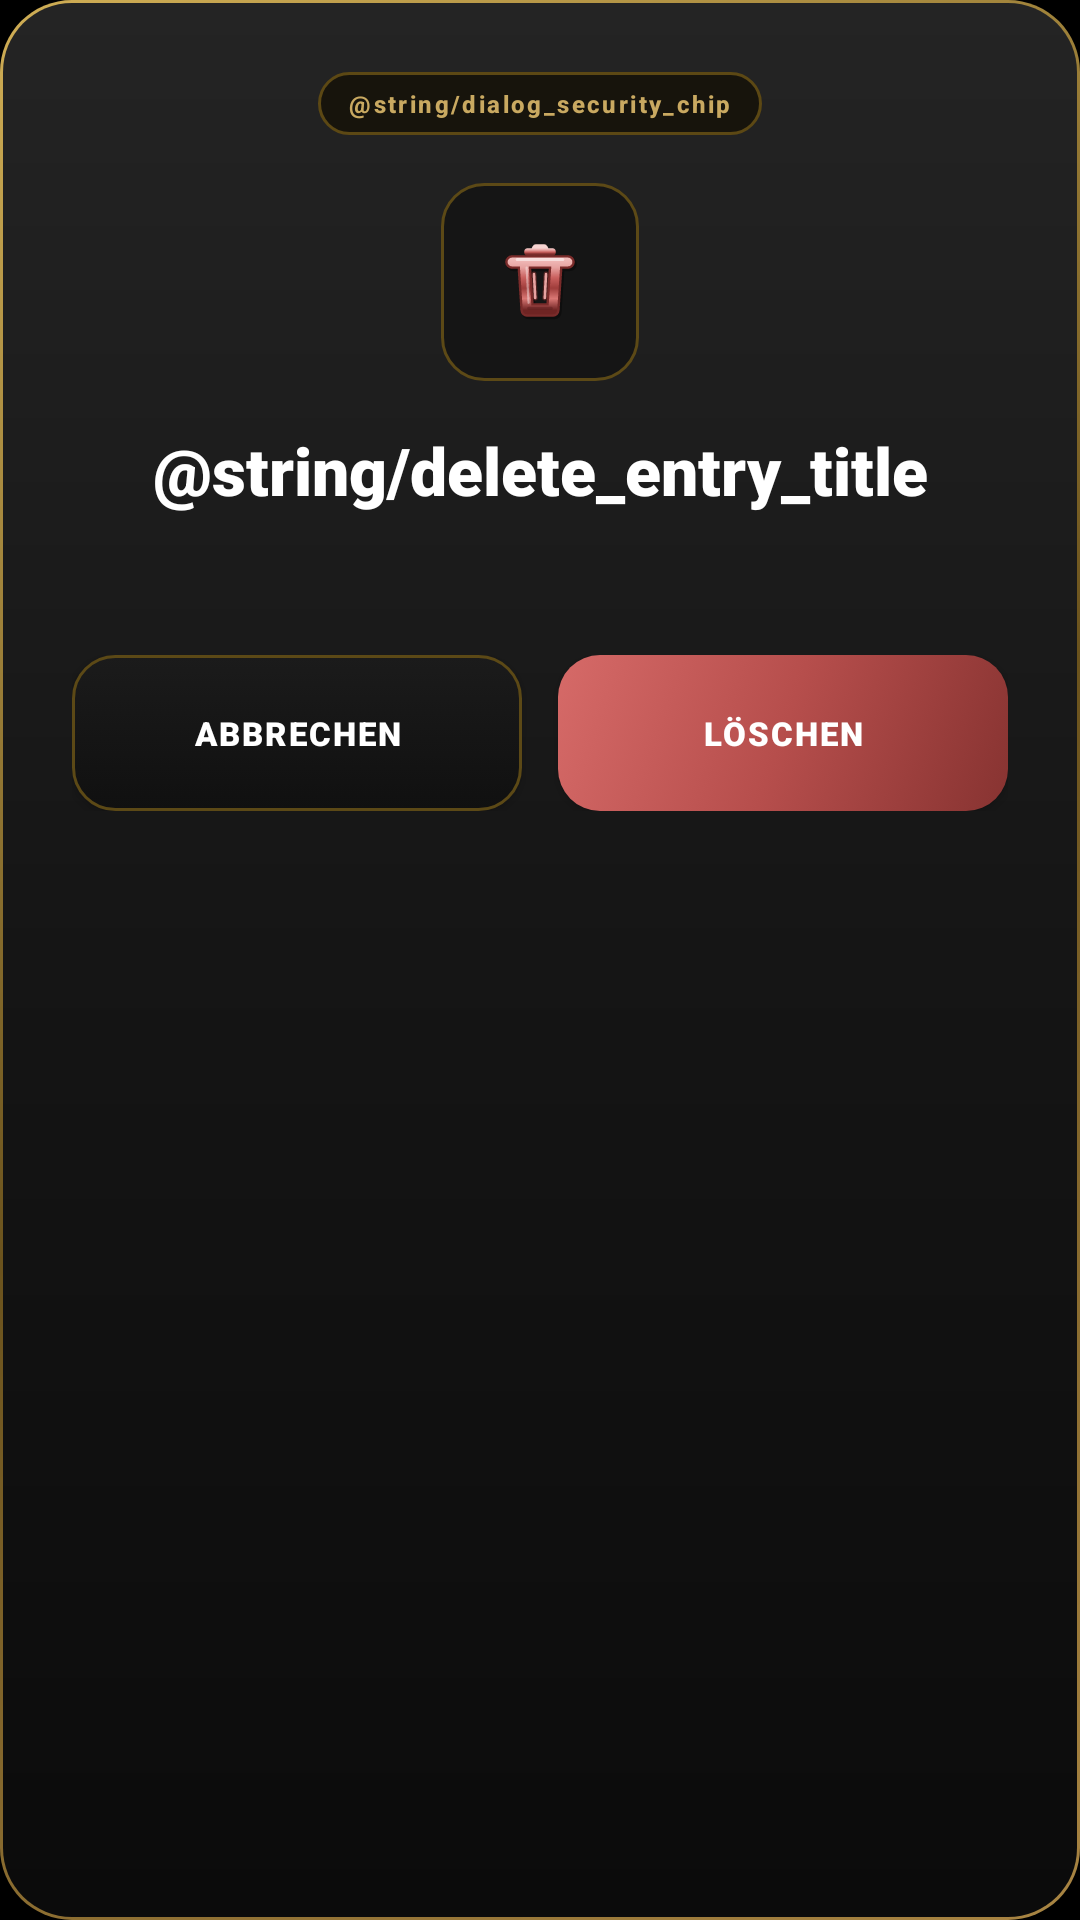

Locate icon controls on the screen. Image size 1080*1920, boxes as bbox(x1, y1, x2, y2).
LÖSCHEN: bbox(505, 244, 575, 317)
